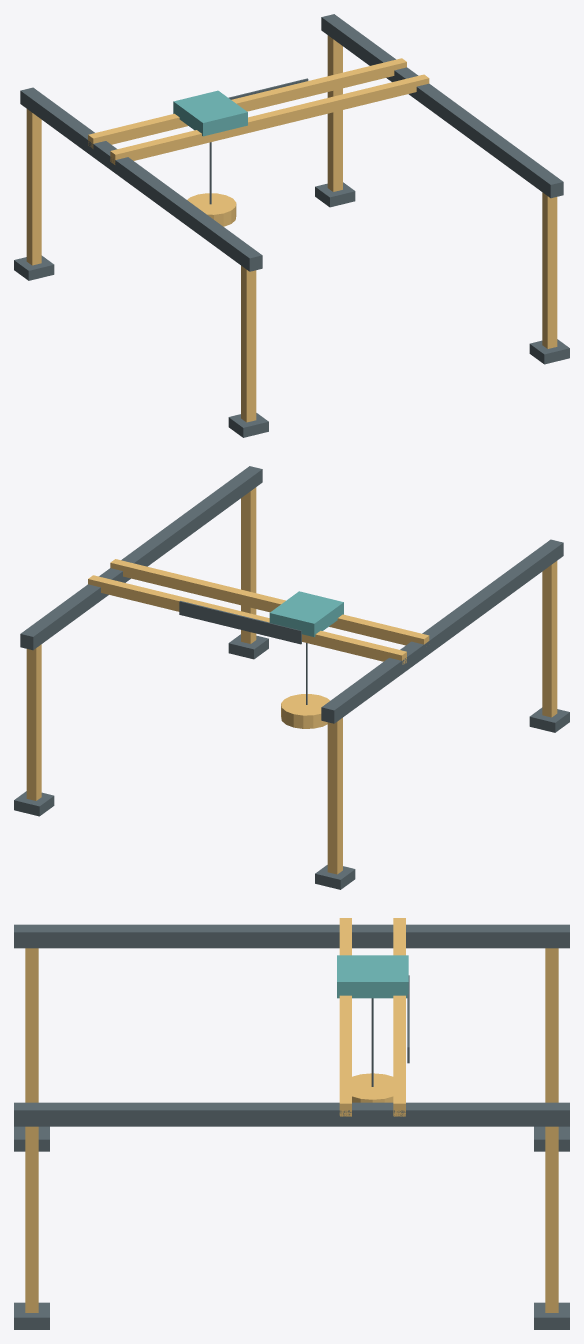
The model's file is ScrapGantryCrane.glb.
3 views of the same model, one above another, from view 1: azimuth 30°, elevation 25°; view 2: azimuth 150°, elevation 25°; view 3: azimuth 270°, elevation 25° (orthographic). The views are drawn at different scales.
Visible parts, largest first — view 1: ScrapGantryCrane_CraneLeg; view 2: ScrapGantryCrane_CraneLeg; view 3: ScrapGantryCrane_CraneLeg.
Boxes of the visible parts, box(x1,y1,x2,y2) form: ScrapGantryCrane_CraneLeg: box(14, 14, 569, 437); ScrapGantryCrane_CraneLeg: box(14, 466, 569, 889); ScrapGantryCrane_CraneLeg: box(14, 918, 569, 1329).
Bounding box in the file's own units: 51 × 29.05 × 62.
